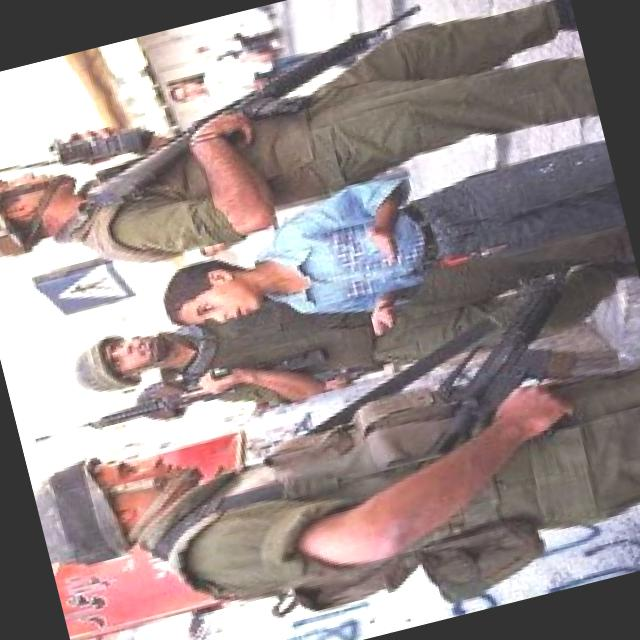long weapon: (71, 0, 444, 227), (371, 260, 619, 468), (26, 360, 283, 458)
